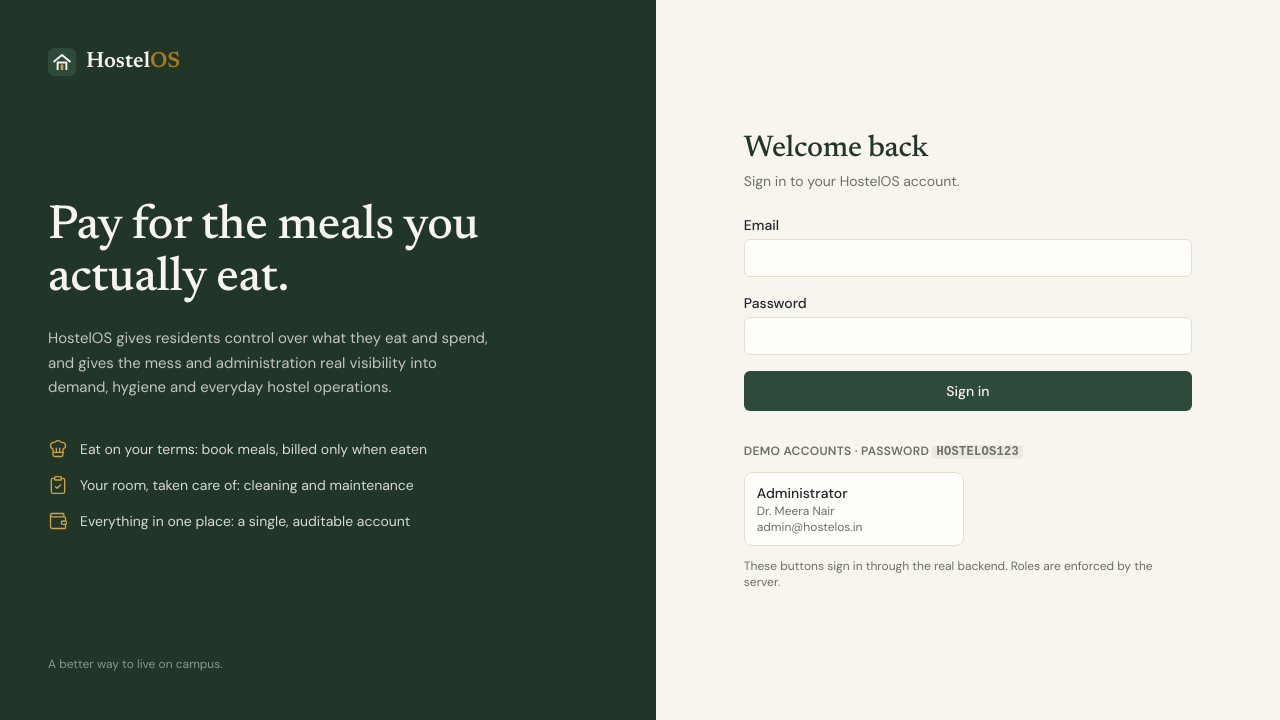
Scenario: Login › lists demo accounts and signs in through the backend API
This screenshot has width=1280, height=720.
Click the button "Administrator Dr. Meera Nair admin@hostelos.in". click: (854,508)
box: [744,472,964,546]
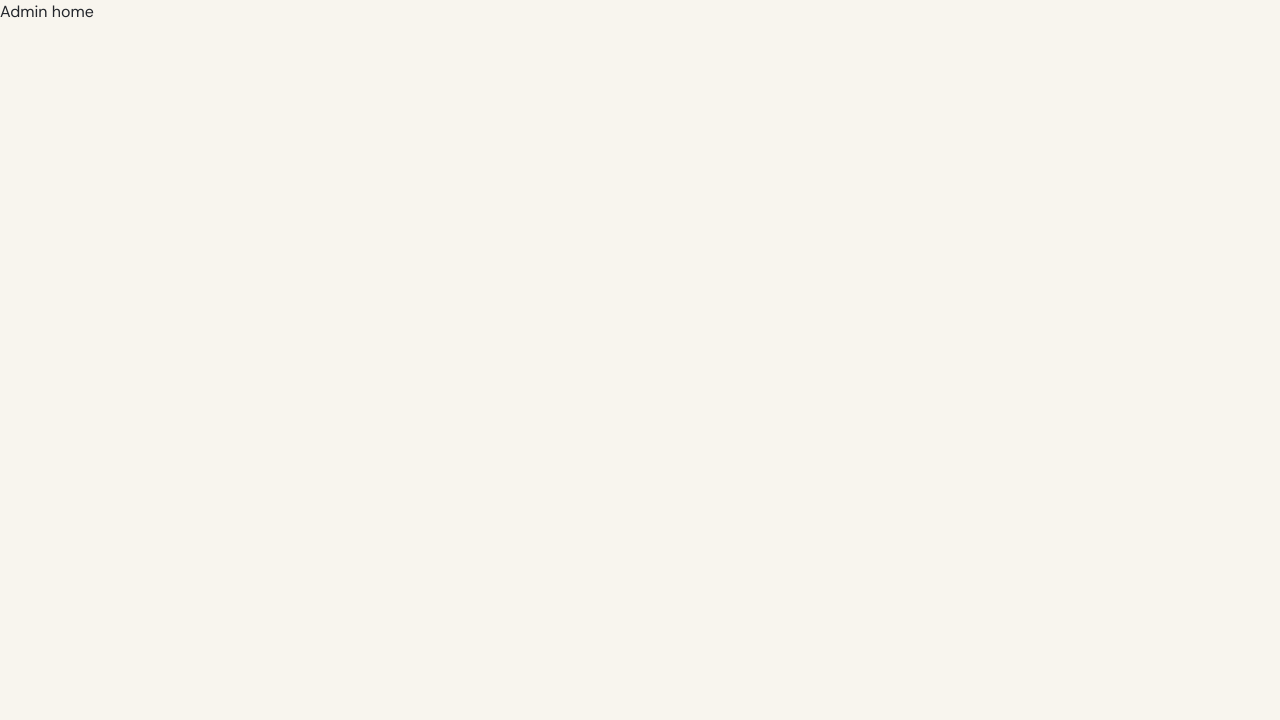
Result: the text "Admin home" is shown at [0,1,94,22]
